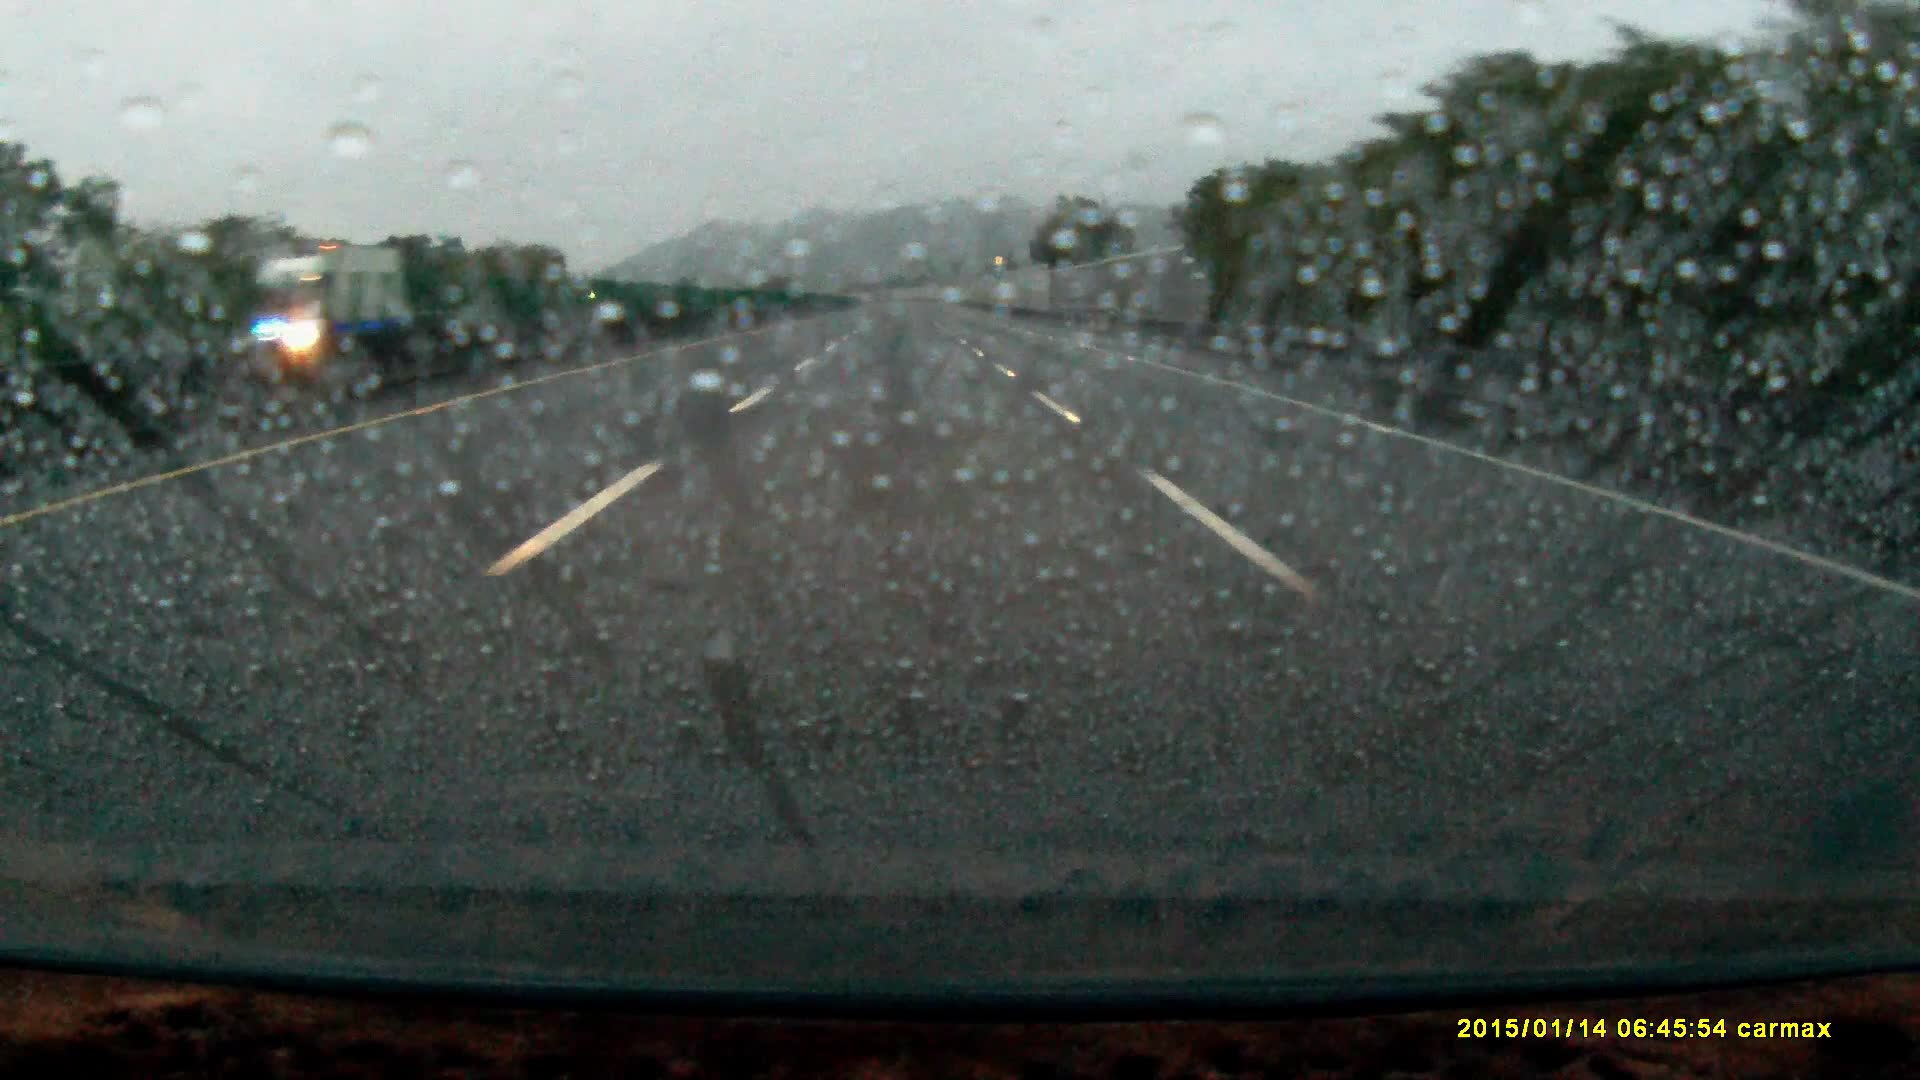vehicle: (237, 247, 411, 357)
